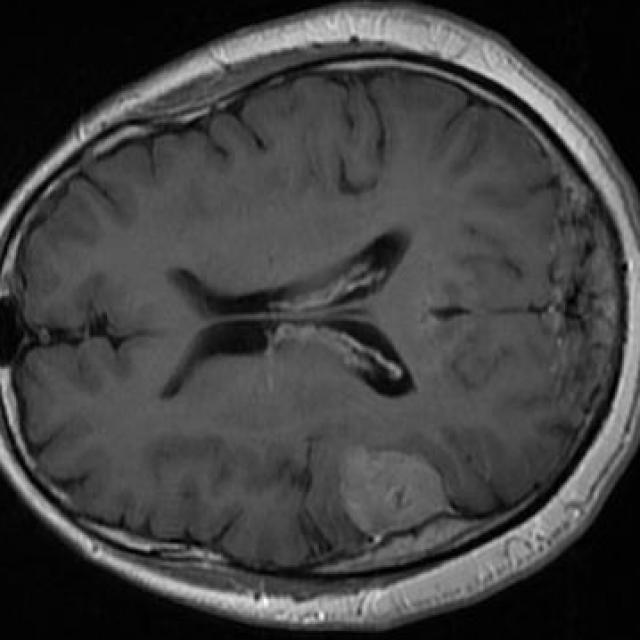meningioma: (342, 446, 449, 537)
